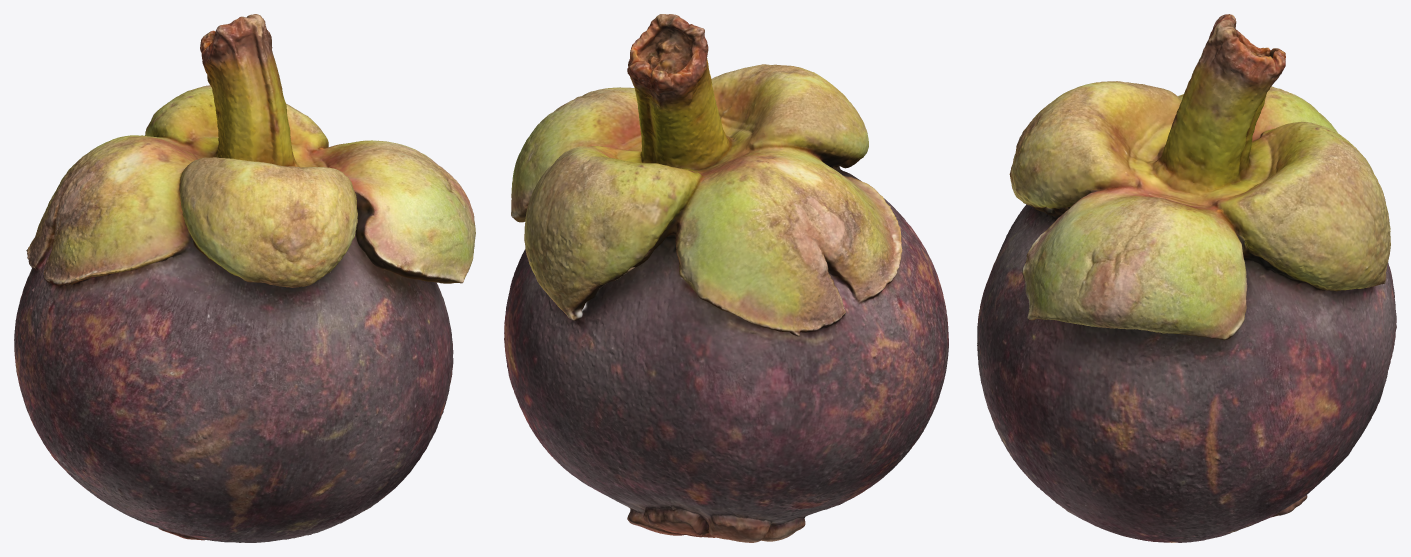
File: mangosteen.glb
3 renders of one model, left to right at view 1: azimuth 30°, elevation 25°; view 2: azimuth 150°, elevation 25°; view 3: azimuth 270°, elevation 25°, orthographic. The views are drawn at different scales.
Visible parts, largest first — view 1: Object_3, Object_2, Object_6, Object_4, Object_5; view 2: Object_5, Object_2, Object_3, Object_6, Object_4; view 3: Object_2, Object_4, Object_5, Object_3, Object_6.
Part boxes in pixels (x1,y1,x2,y2): Object_3: (14, 16, 453, 536); Object_2: (16, 14, 474, 325); Object_6: (14, 86, 466, 542); Object_4: (97, 125, 475, 542); Object_5: (15, 42, 474, 496); Object_5: (504, 64, 878, 539); Object_2: (524, 14, 903, 381); Object_3: (635, 14, 948, 488); Object_6: (504, 123, 948, 538); Object_4: (507, 88, 870, 542); Object_2: (1020, 14, 1363, 320); Object_4: (977, 197, 1340, 542); Object_5: (992, 52, 1396, 530); Object_3: (977, 15, 1292, 540); Object_6: (978, 124, 1393, 465).
Size of the model in its own units: 2.02 by 2.41 by 1.78.
Materials: 1 (1 with a texture image).
